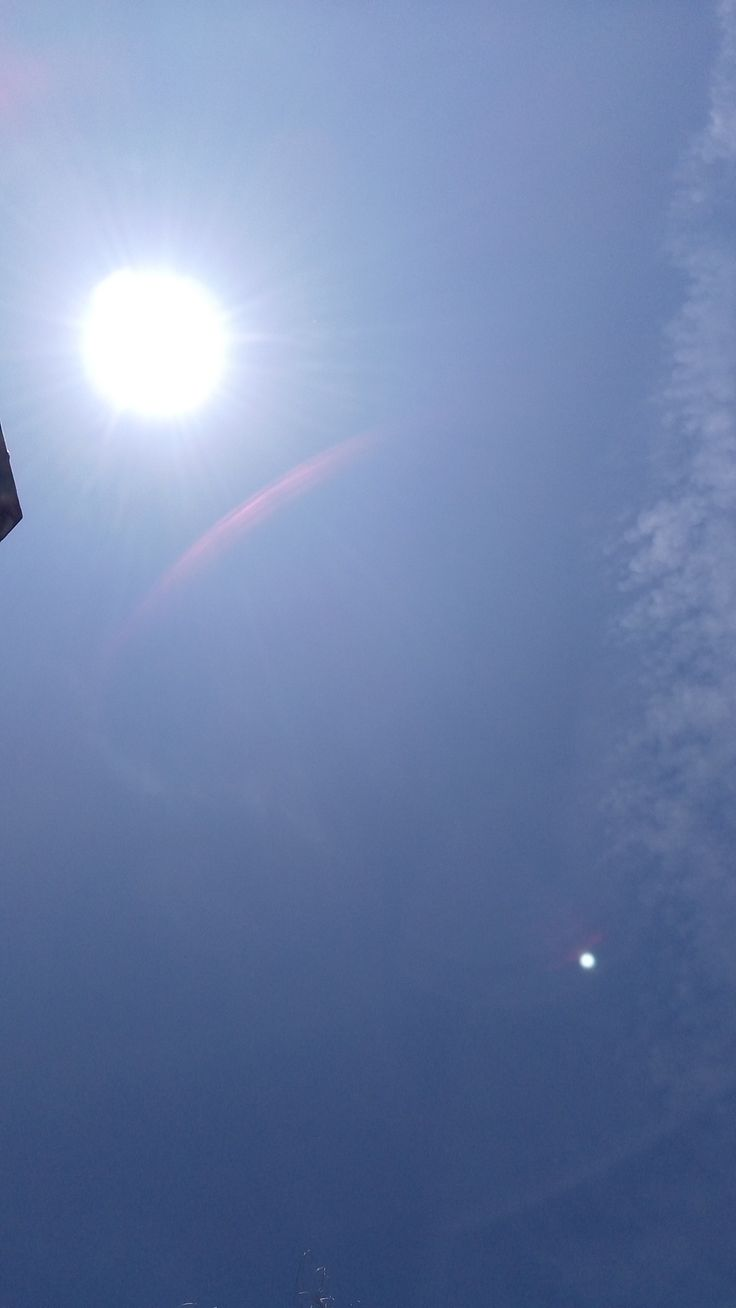sun: (31, 218, 269, 444)
